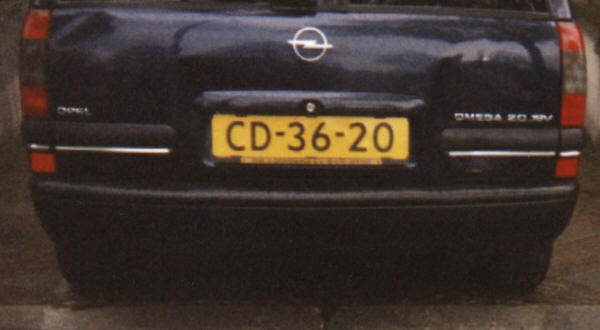license_plate: (211, 111, 412, 162)
